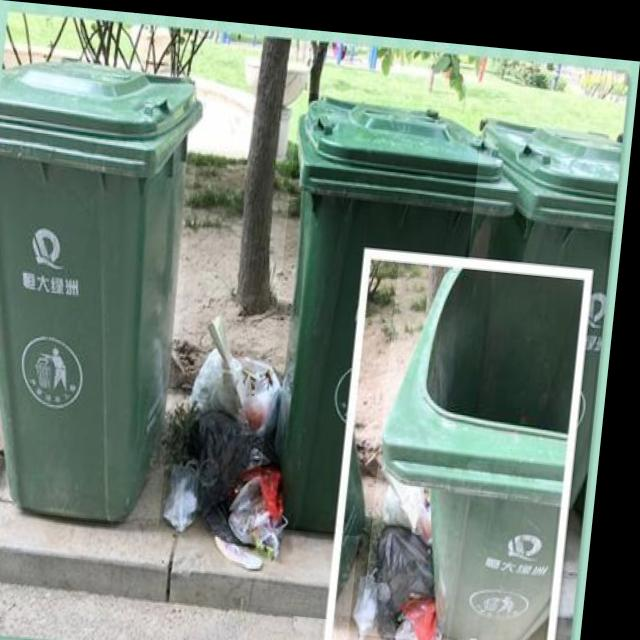garbage: (170, 308, 312, 563), (360, 458, 468, 640)
garbage_bin: (267, 86, 525, 537), (0, 54, 207, 521), (374, 250, 587, 640), (454, 103, 623, 496)
